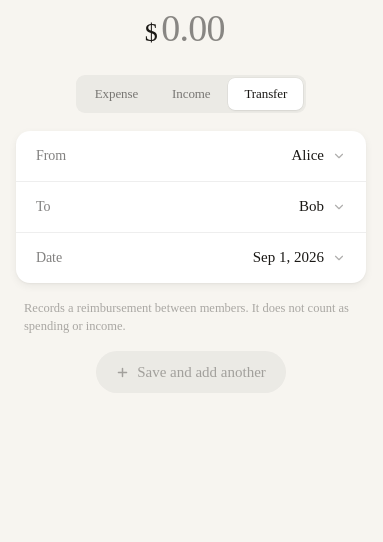
Test case: tx form — every picker is the shared accordion row › transfer From/To are disclosure rows that pick members
The width and height of the screenshot is (383, 542).
Click the button "From Alice": (308, 155) [16, 130, 366, 180]
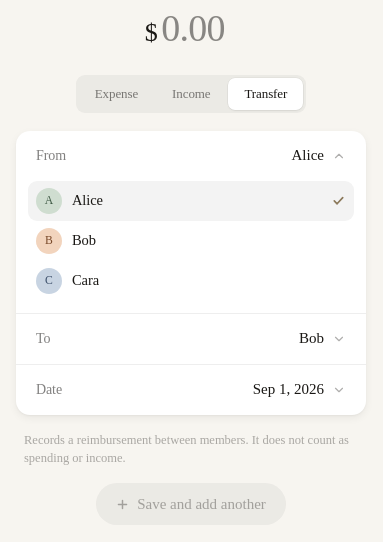
Click the button "C Cara": (49, 280) [28, 260, 354, 300]
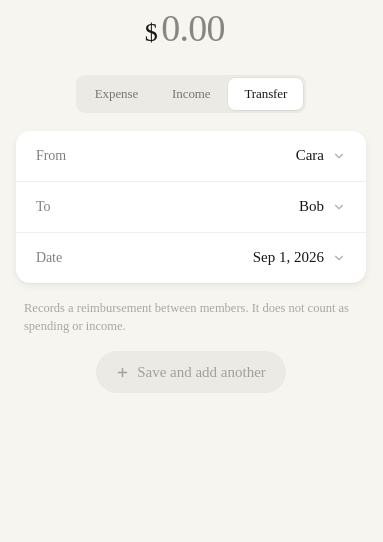
Expected: the button "To Bob" is shown, [16, 182, 366, 232]
Expected: the button "From Cara" is shown, [16, 130, 366, 180]
